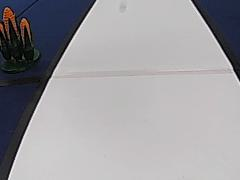corn: (0, 2, 42, 71)
